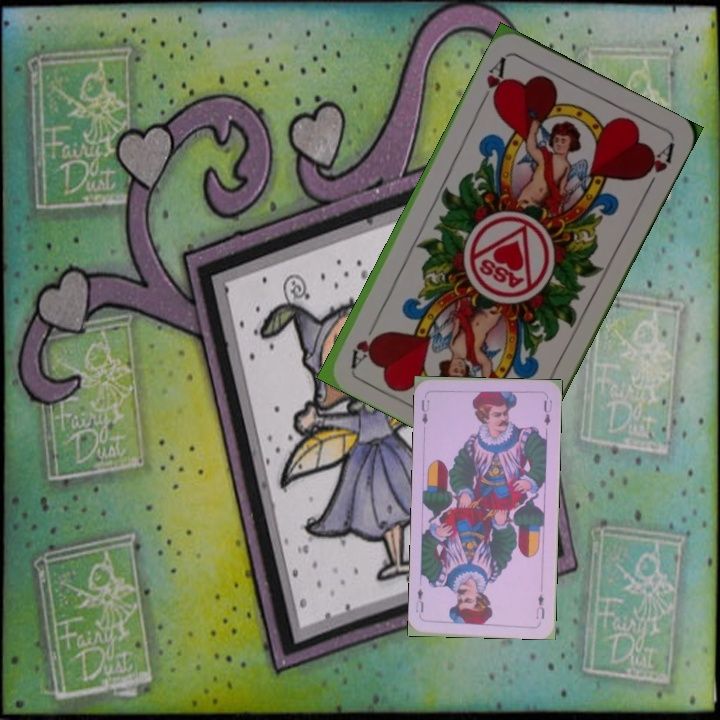EU: (532, 590, 547, 622), (418, 395, 432, 427)
HA: (476, 52, 509, 108)
